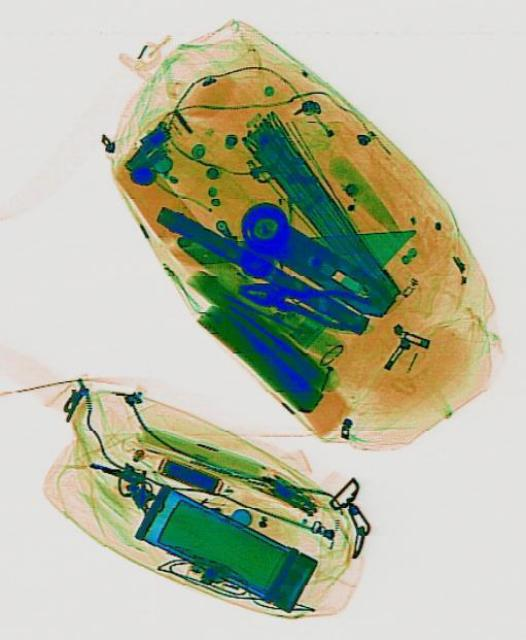Pliers: (234, 266, 372, 334)
